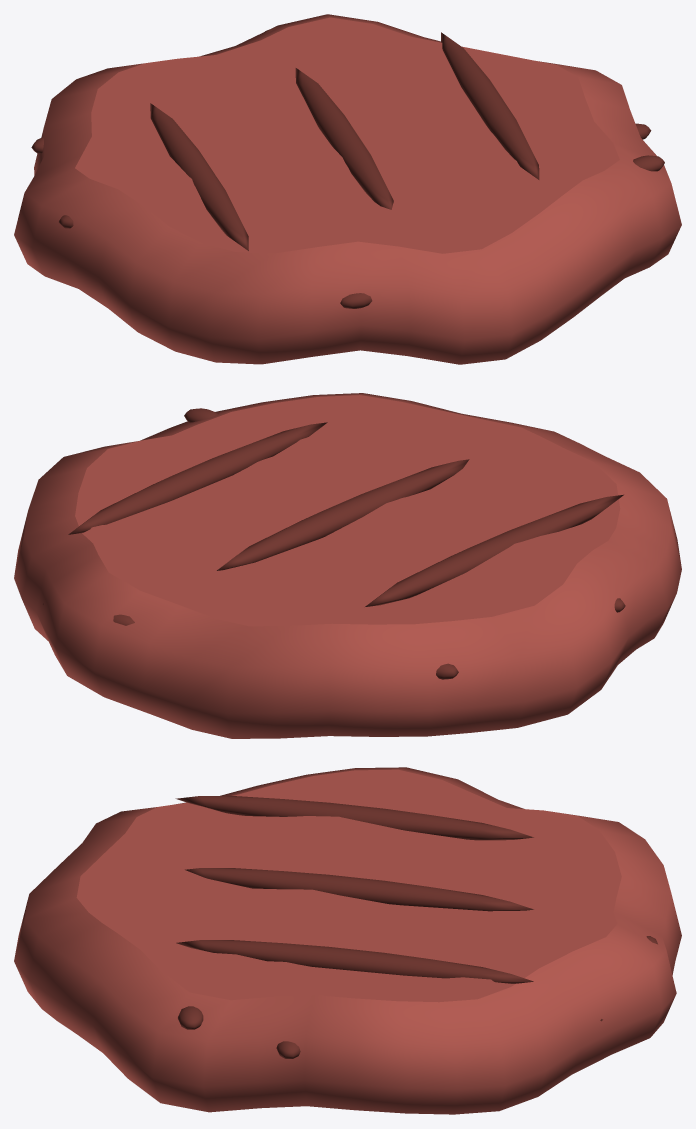
Rendered from cooking.glb.
The picture shows the model from 3 angles, top to bottom: view 1: azimuth 30°, elevation 25°; view 2: azimuth 150°, elevation 25°; view 3: azimuth 270°, elevation 25°; orthographic projection. The views are drawn at different scales.
Visible parts, largest first — view 1: Hand pressed patty.001, Pressed grill line.005, Pressed grill line.004, Pressed grill line.003; view 2: Hand pressed patty.001, Pressed grill line.004, Pressed grill line.005, Pressed grill line.003; view 3: Hand pressed patty.001, Pressed grill line.004, Pressed grill line.005, Pressed grill line.003.
Boxes of the visible parts, left/top/right/bottom form: Hand pressed patty.001: left=14, top=14, right=681, bottom=364; Pressed grill line.005: left=441, top=32, right=539, bottom=179; Pressed grill line.004: left=295, top=68, right=393, bottom=209; Pressed grill line.003: left=150, top=103, right=248, bottom=250; Hand pressed patty.001: left=14, top=393, right=681, bottom=738; Pressed grill line.004: left=217, top=459, right=469, bottom=570; Pressed grill line.005: left=68, top=422, right=327, bottom=534; Pressed grill line.003: left=365, top=494, right=623, bottom=606; Hand pressed patty.001: left=14, top=767, right=681, bottom=1114; Pressed grill line.004: left=185, top=868, right=533, bottom=911; Pressed grill line.005: left=176, top=940, right=533, bottom=983; Pressed grill line.003: left=175, top=795, right=533, bottom=840.
Size of the model in its own units: 0.4533 by 0.0925 by 0.4504.
